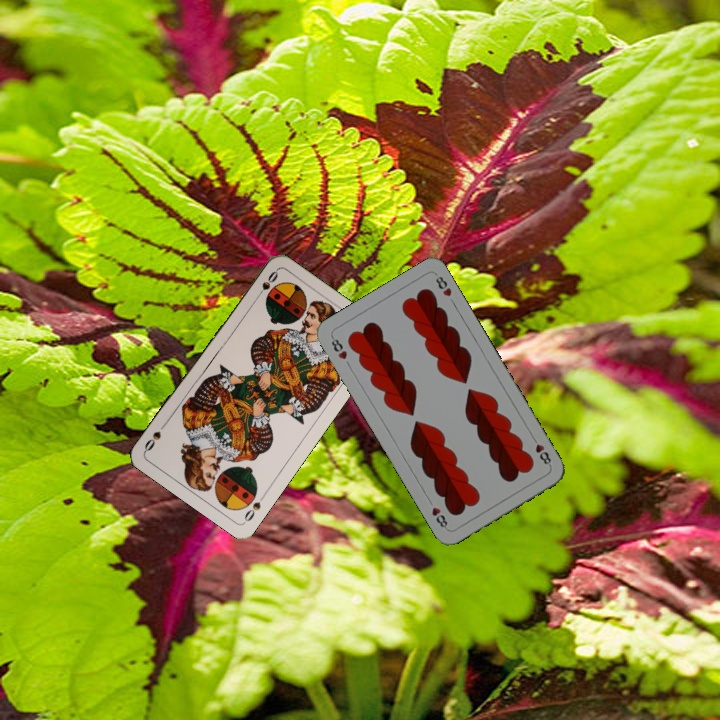H8: (528, 432, 554, 469), (327, 332, 350, 362)
SO: (251, 267, 281, 302), (240, 489, 268, 524)
